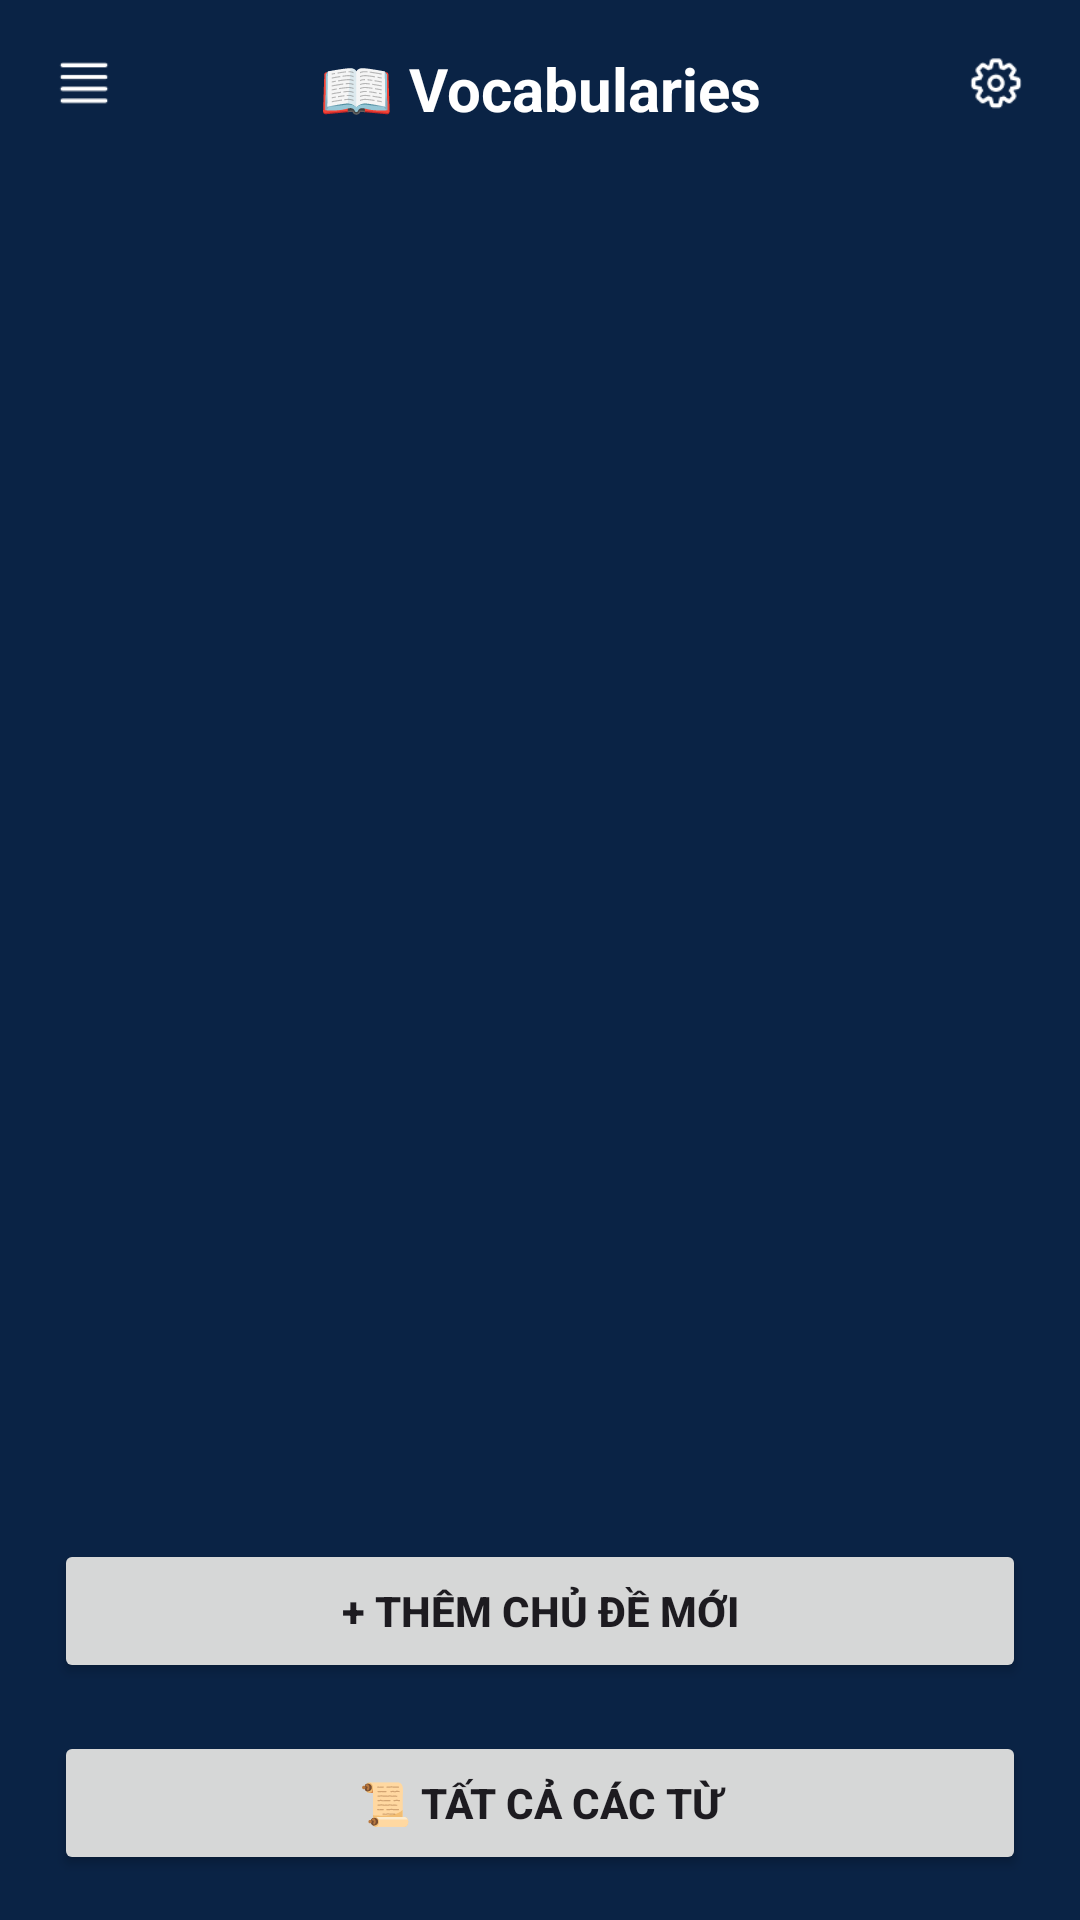

Icon click points for this 1080x1920 phone screenshot, format [x,y]:
menu: [84,83]
setting: [996,83]
